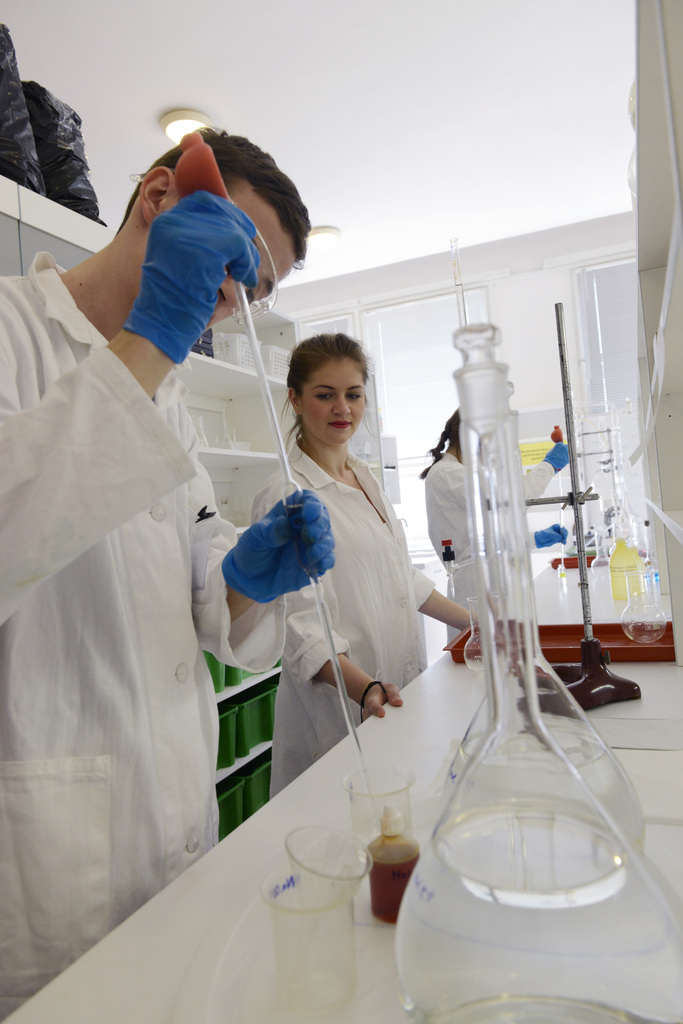Person: (0, 120, 340, 1019)
